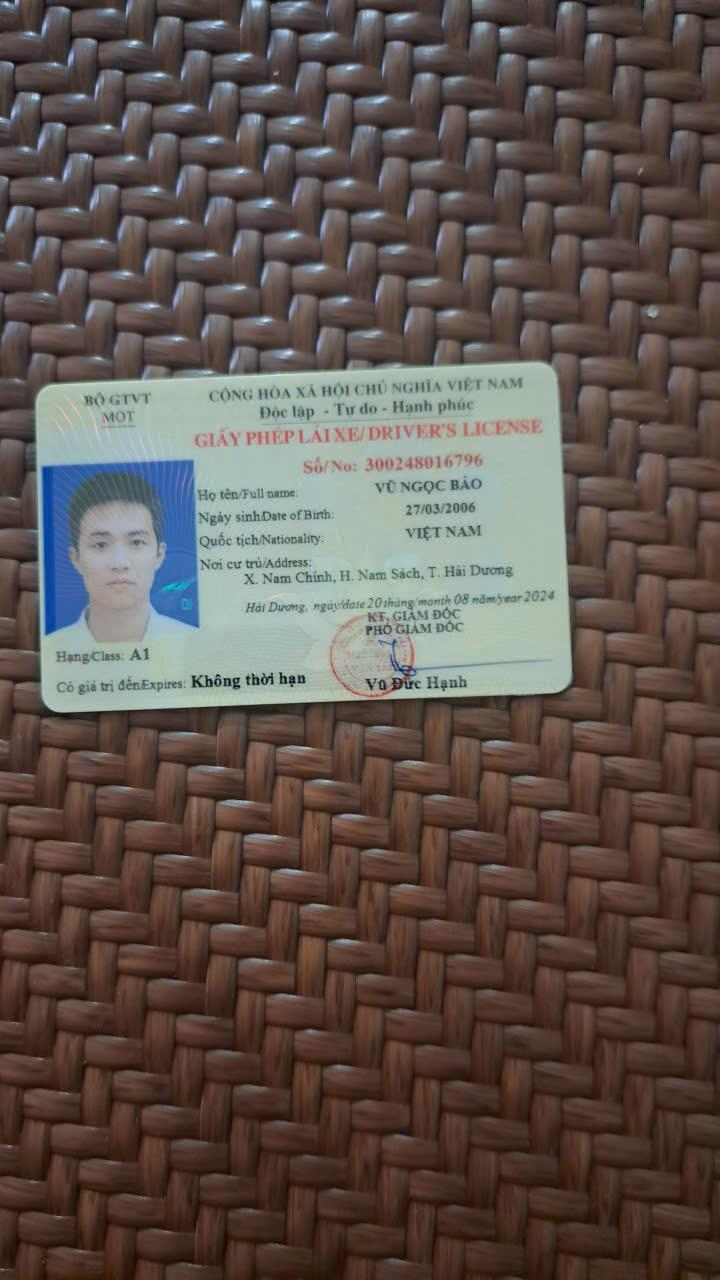gplx: (28, 351, 578, 718)
